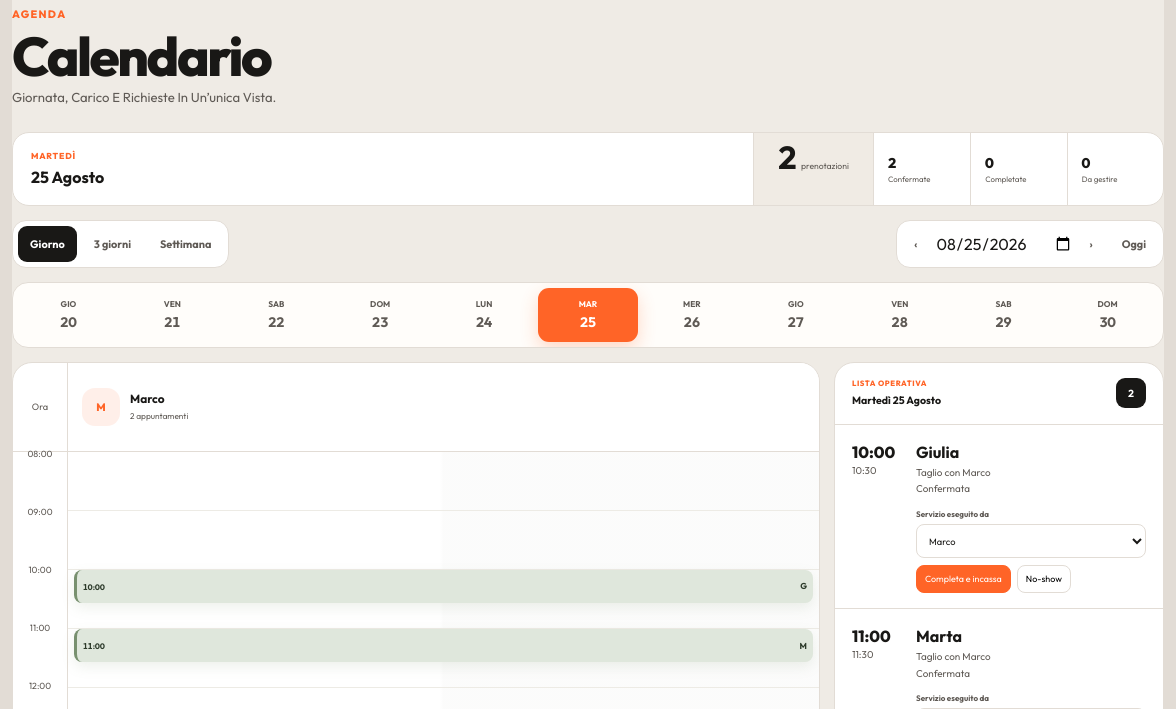
BookingsPage › rende la settimana più sintetica e mostra il carico per giornata
This screenshot has width=1176, height=709.
Click the button "Settimana". click: [186, 244]
box: [148,226,224,262]
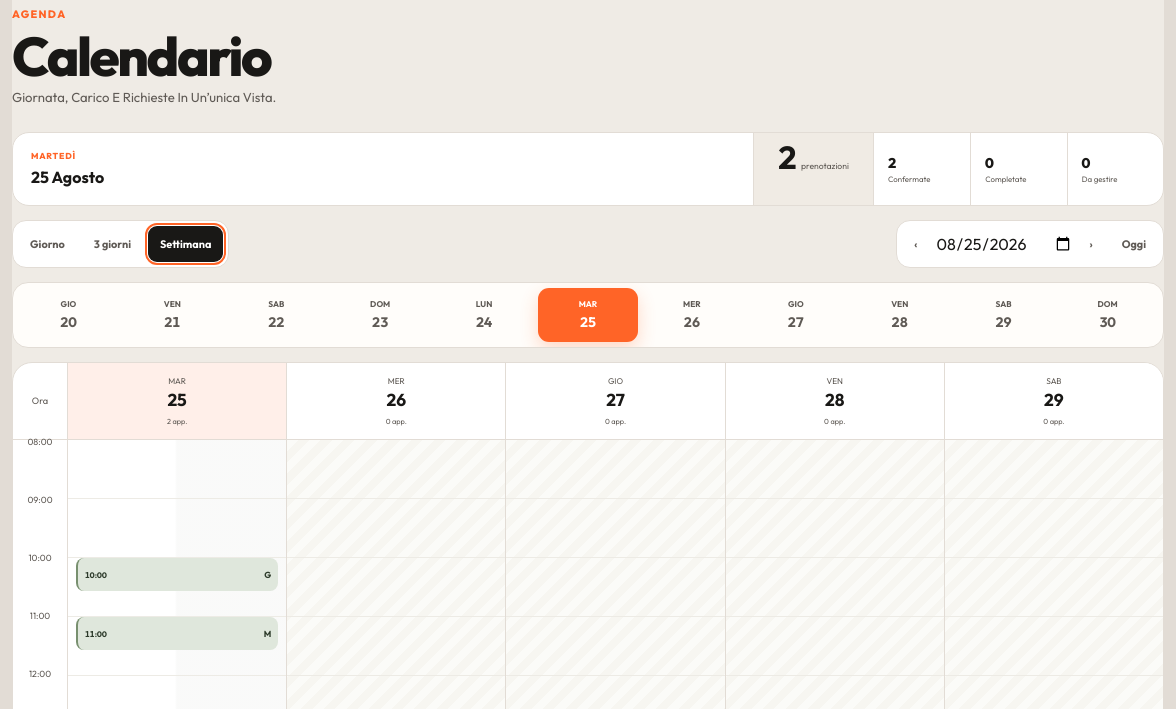
Expected: the text "2 app." is shown, [167,416,187,427]
